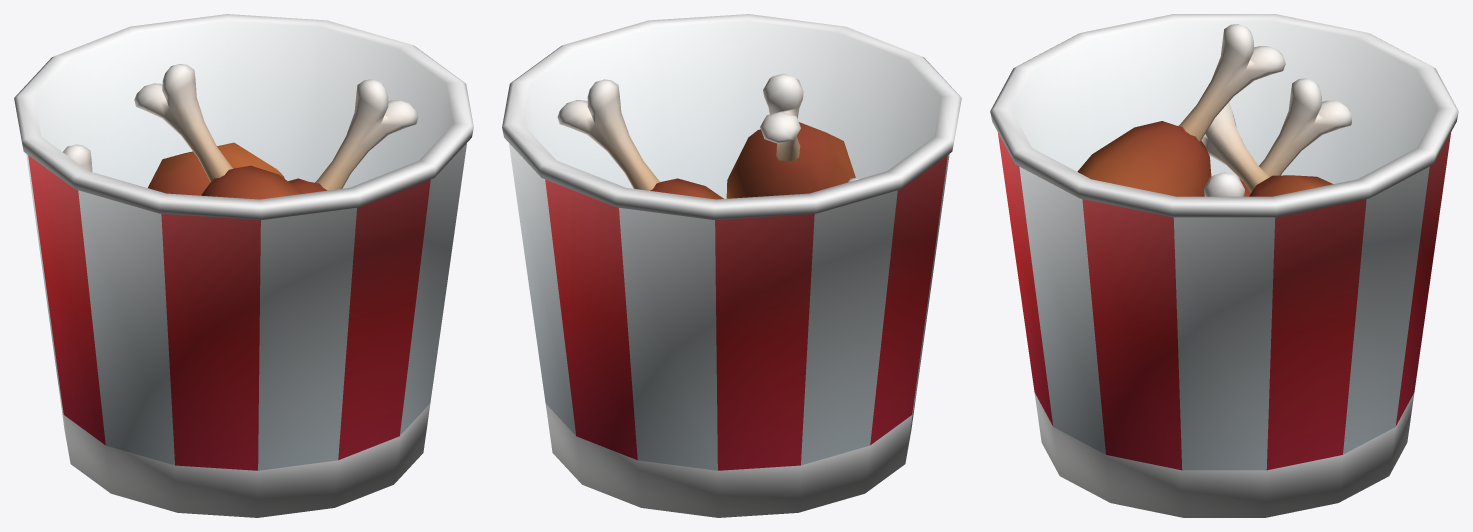
The model's file is ChickenBucket.fbx.
3 renders of one model, left to right at view 1: azimuth 30°, elevation 25°; view 2: azimuth 150°, elevation 25°; view 3: azimuth 270°, elevation 25°, orthographic.
Visible parts, largest first — view 1: ChickenBucket; view 2: ChickenBucket; view 3: ChickenBucket.
Boxes of the visible parts, box(x1,y1,x2,y2) form: ChickenBucket: box(14, 14, 473, 517); ChickenBucket: box(502, 14, 961, 517); ChickenBucket: box(990, 14, 1458, 517).
Bounding box in the file's own units: 33.9 × 31.78 × 34.77.
1 material, 1 textured.
